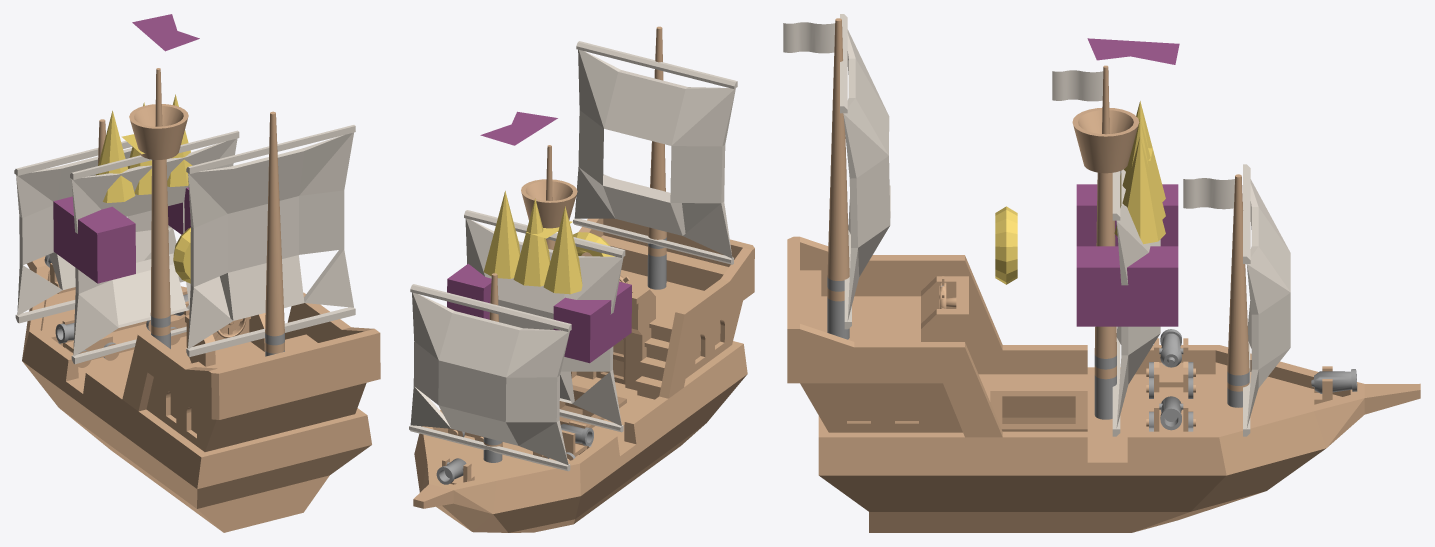
Rendered from ile_10_galion_royal_anime.glb.
3 renders of one model, left to right at view 1: azimuth 30°, elevation 25°; view 2: azimuth 150°, elevation 25°; view 3: azimuth 270°, elevation 25°, orthographic. The views are drawn at different scales.
Visible parts, largest first — view 1: navire_pirate_clair_assimp, Balcon_Royal.001, Pointe_Couronne_0, Grand_Pavillon, Embleme_Royal, Balcon_Royal, Pointe_Couronne_2, Pointe_Couronne_1; view 2: navire_pirate_clair_assimp, Balcon_Royal.001, Pointe_Couronne_0, Pointe_Couronne_2, Pointe_Couronne_1, Balcon_Royal, Grand_Pavillon, Embleme_Royal; view 3: navire_pirate_clair_assimp, Balcon_Royal, Pointe_Couronne_2, Balcon_Royal.001, Grand_Pavillon, Embleme_Royal, Pointe_Couronne_1.
Boxes of the visible parts, x1,y1,x2,y2 form: navire_pirate_clair_assimp: (14, 68, 380, 532); Balcon_Royal.001: (53, 196, 135, 283); Pointe_Couronne_0: (96, 110, 135, 202); Grand_Pavillon: (132, 14, 199, 51); Embleme_Royal: (173, 227, 190, 283); Balcon_Royal: (168, 187, 190, 234); Pointe_Couronne_2: (167, 94, 192, 186); Pointe_Couronne_1: (127, 102, 151, 195); navire_pirate_clair_assimp: (409, 26, 754, 532); Balcon_Royal.001: (553, 281, 631, 363); Pointe_Couronne_0: (543, 206, 582, 294); Pointe_Couronne_2: (483, 191, 520, 278); Pointe_Couronne_1: (513, 198, 550, 286); Balcon_Royal: (447, 263, 491, 319); Grand_Pavillon: (480, 111, 557, 145); Embleme_Royal: (573, 232, 614, 256); navire_pirate_clair_assimp: (783, 14, 1420, 532); Balcon_Royal: (1076, 246, 1178, 326); Pointe_Couronne_2: (1114, 136, 1165, 244); Balcon_Royal.001: (1076, 184, 1178, 246); Grand_Pavillon: (1087, 38, 1179, 64); Embleme_Royal: (995, 206, 1017, 284); Pointe_Couronne_1: (1120, 118, 1165, 219).
Size of the model in its own units: 31.35 by 72.07 by 85.03.
